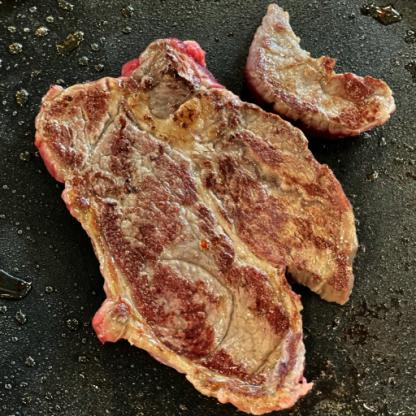Carne: (24, 31, 364, 415), (243, 9, 395, 142)
